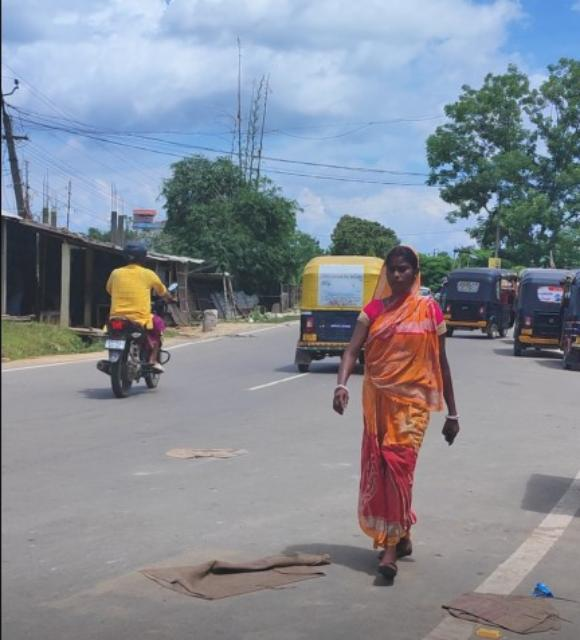licensePlate: (102, 340, 126, 349)
motorcycle: (96, 242, 179, 398)
withHelmet: (121, 243, 145, 266)
